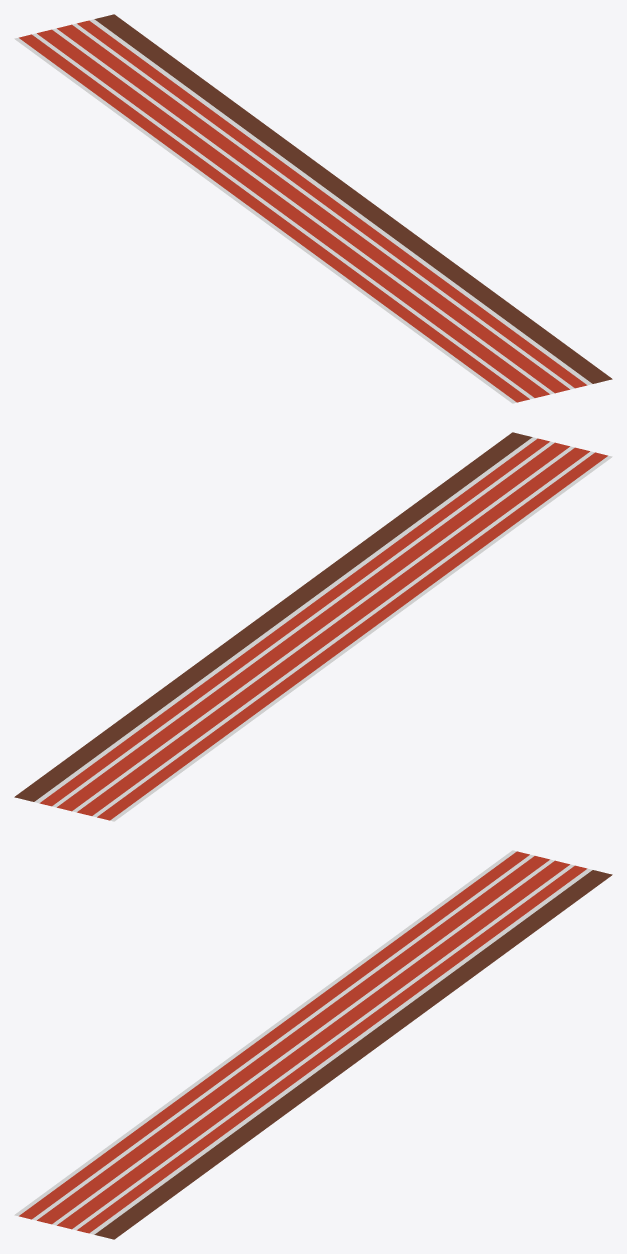
File: M_JoggingTrack02.fbx
The picture shows the model from 3 angles, top to bottom: view 1: azimuth 30°, elevation 25°; view 2: azimuth 150°, elevation 25°; view 3: azimuth 330°, elevation 25°; orthographic projection.
Parts seen in each view (by area): view 1: M_JoggingTrack02; view 2: M_JoggingTrack02; view 3: M_JoggingTrack02.
Boxes of the visible parts, bbox=[...] form: M_JoggingTrack02: bbox=[14, 14, 612, 403]; M_JoggingTrack02: bbox=[14, 432, 612, 821]; M_JoggingTrack02: bbox=[14, 850, 612, 1239].
Size of the model in its own units: 875 by 7525 by 2.45e-20.
